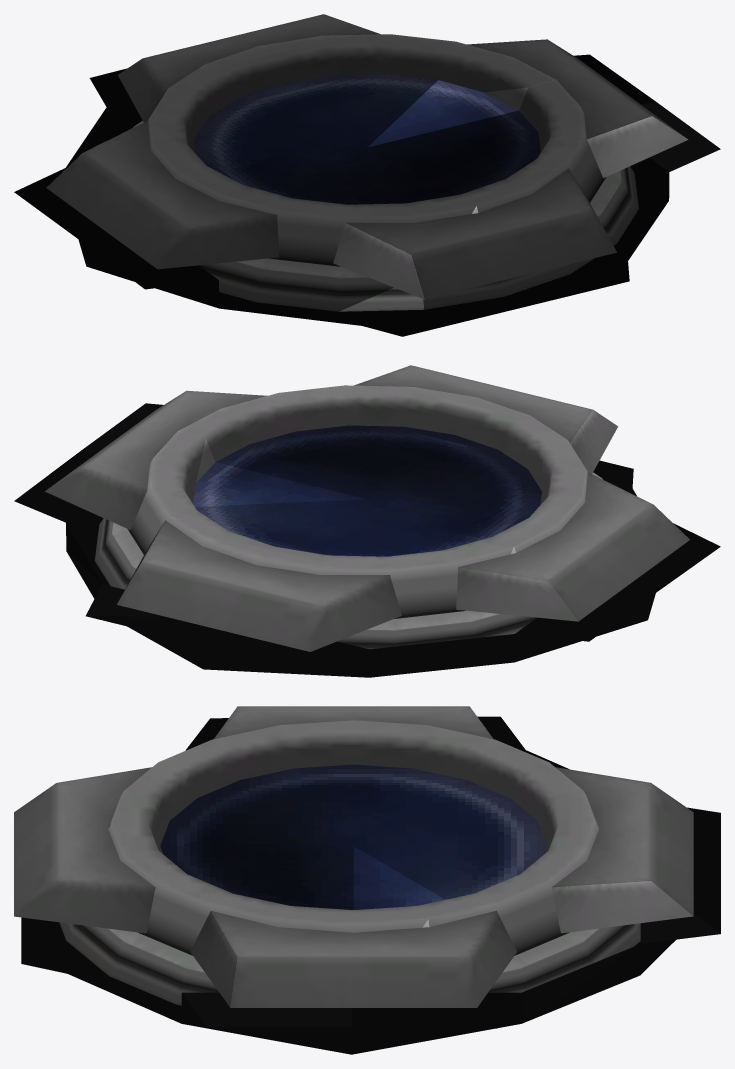
Rendered from massA.obj.
3 views of the same model, one above another, from view 1: azimuth 30°, elevation 25°; view 2: azimuth 150°, elevation 25°; view 3: azimuth 270°, elevation 25° (orthographic). The views are drawn at different scales.
Visible parts, largest first — view 1: polygon0, polygon1, polygon2; view 2: polygon0, polygon1, polygon2; view 3: polygon0, polygon1, polygon2.
Boxes of the visible parts, <box> form: polygon0: <box>46,14,688,311</box>; polygon1: <box>193,74,540,204</box>; polygon2: <box>14,54,720,336</box>; polygon0: <box>45,365,689,651</box>; polygon1: <box>193,425,541,556</box>; polygon2: <box>14,403,720,677</box>; polygon0: <box>14,706,693,1007</box>; polygon1: <box>160,764,547,909</box>; polygon2: <box>21,716,720,1054</box>.
Bounding box in the file's own units: 12.6 × 1.53 × 12.13.
4 materials, 4 textured.
